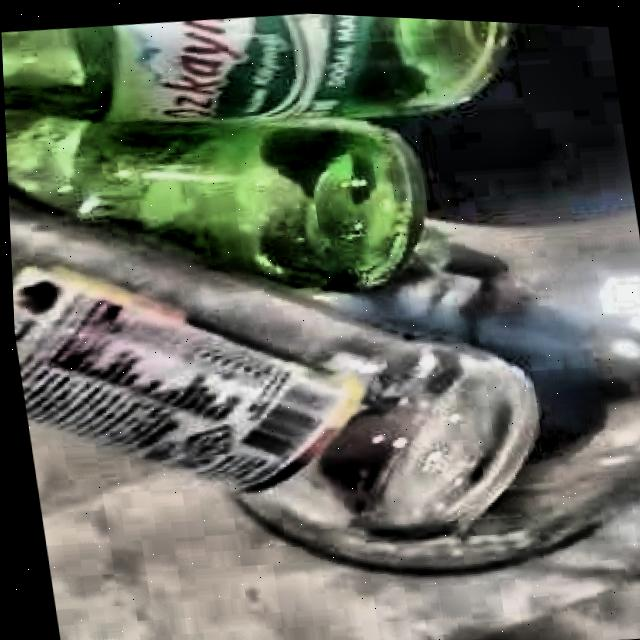glass: (1, 11, 534, 531)
